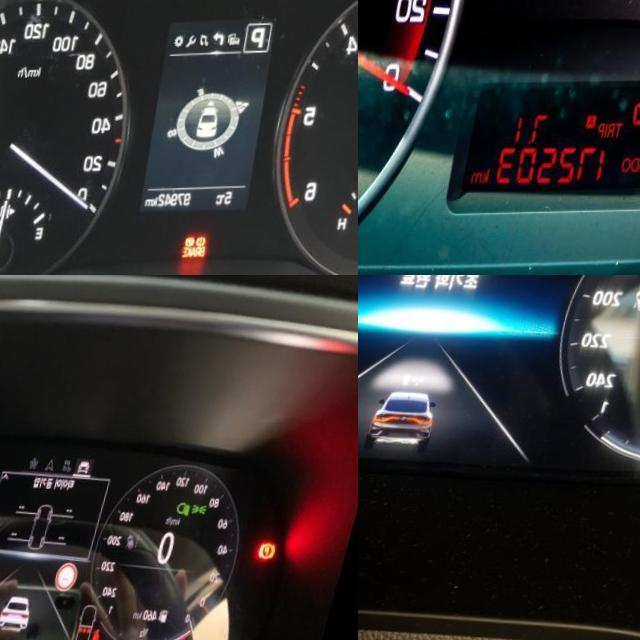Low beam: (189, 502, 206, 518)
SideLamp: (204, 504, 222, 517)
